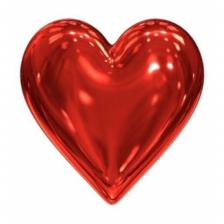red: (20, 19, 204, 204)
